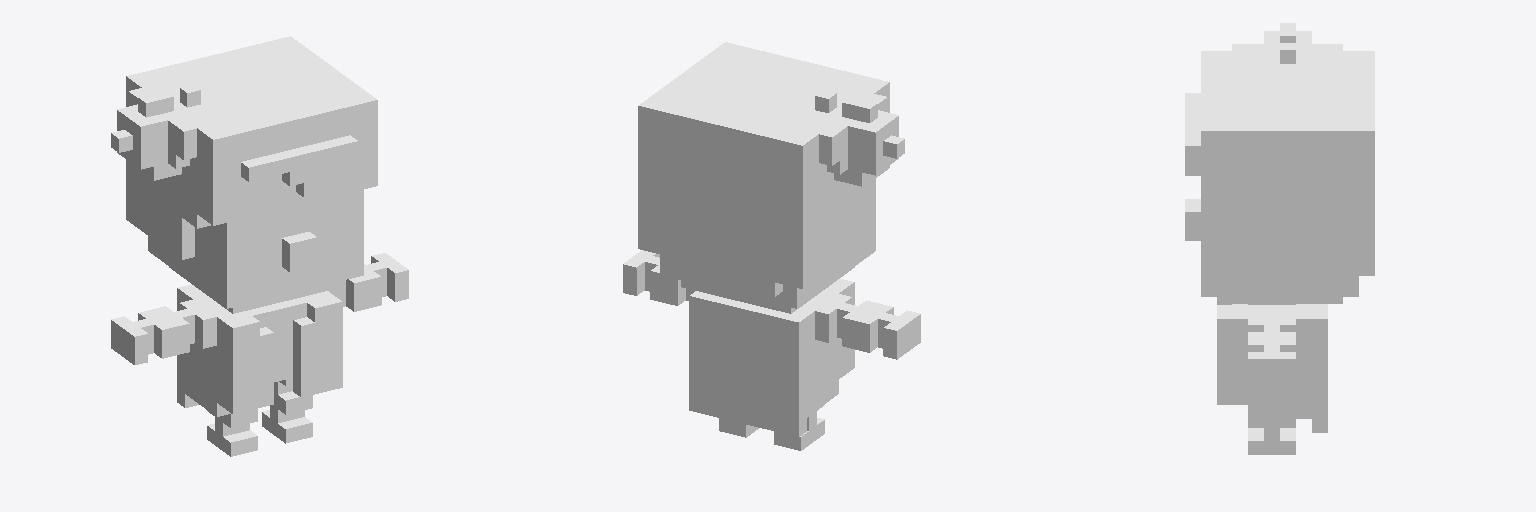
File: ProfessorGender.obj
The picture shows the model from 3 angles: view 1: azimuth 30°, elevation 25°; view 2: azimuth 150°, elevation 25°; view 3: azimuth 270°, elevation 25°; orthographic projection.
Parts seen in each view (by area): view 1: object 1; view 2: object 1; view 3: object 1.
Part boxes in pixels (x1,y1,x2,y2): object 1: (111, 36, 408, 456); object 1: (623, 42, 920, 450); object 1: (1185, 23, 1374, 454).
Bounding box in the file's own units: 2 × 2.5 × 1.2.